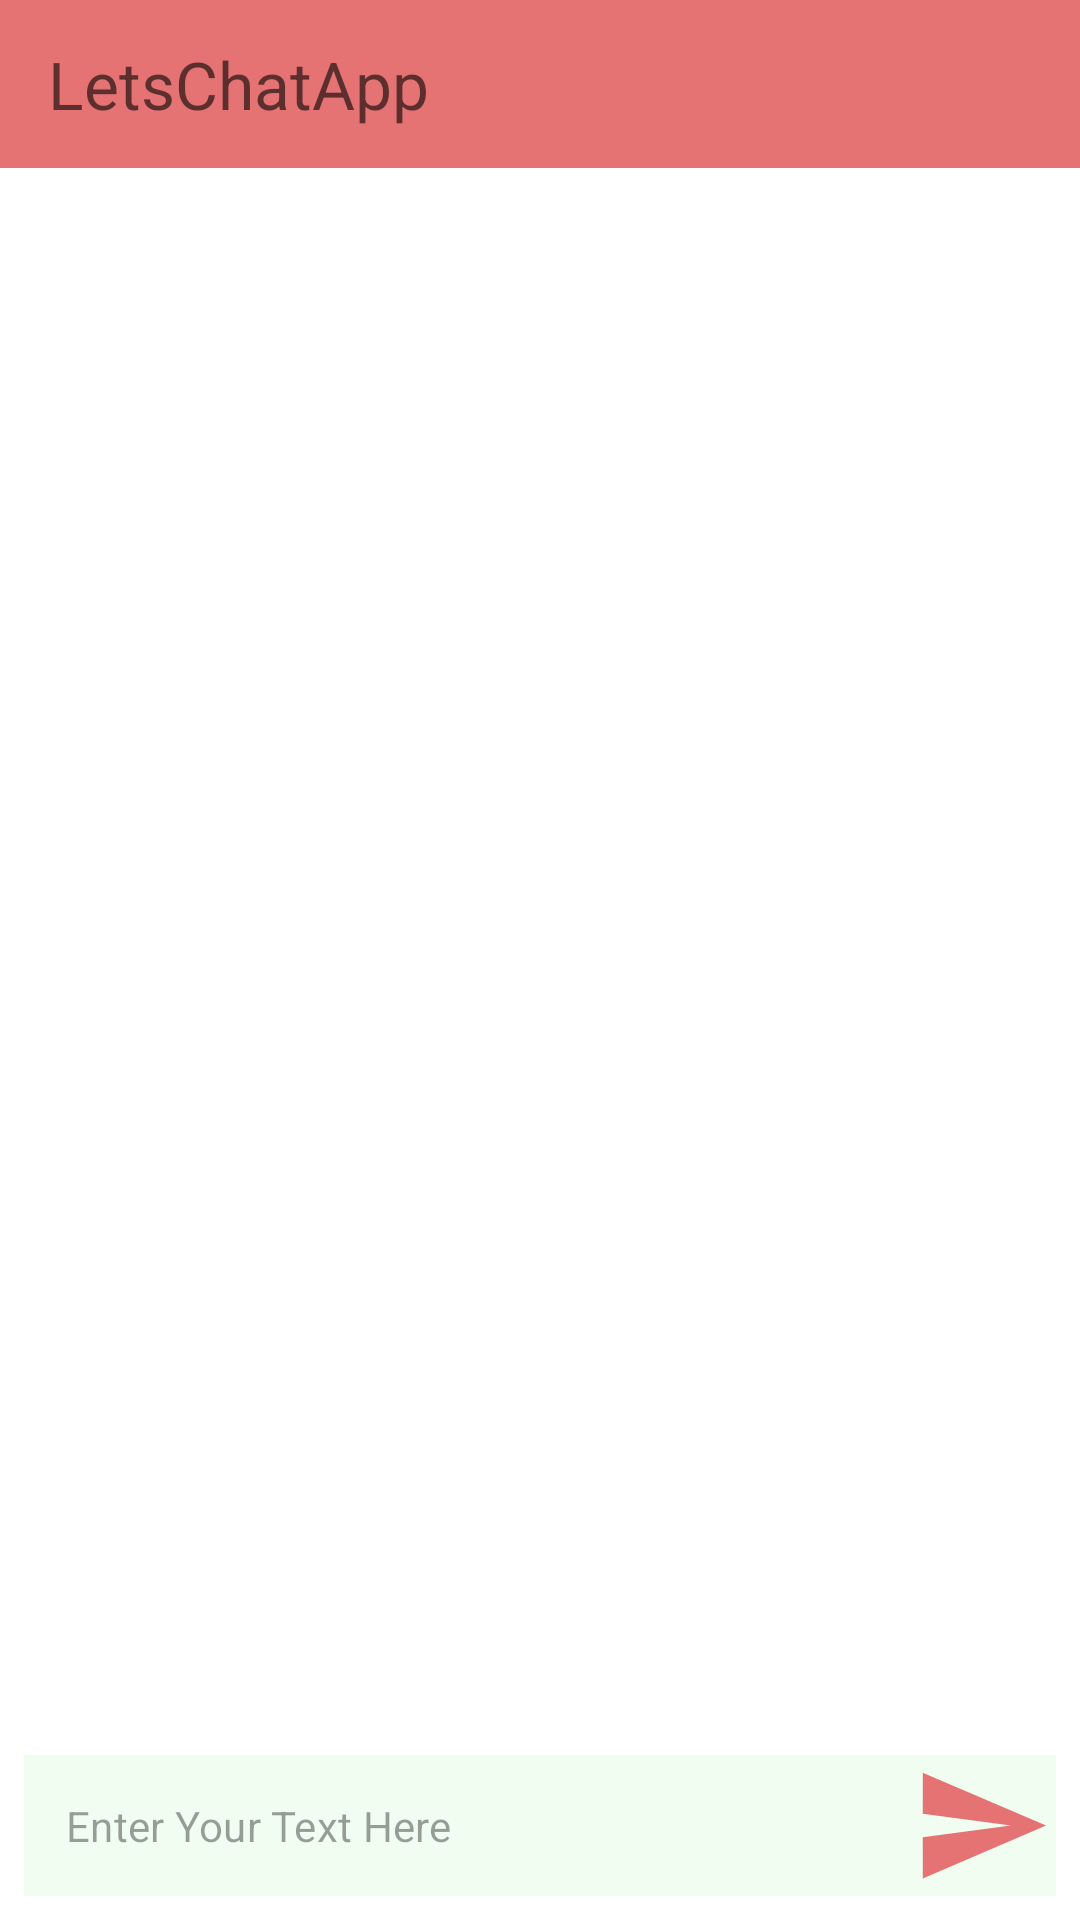

Where to tap for icons on this 1080 x 1920 app screen, as [x,y]:
Send Message: [981,1825]
